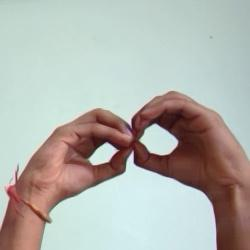B: (1, 10, 249, 250)
